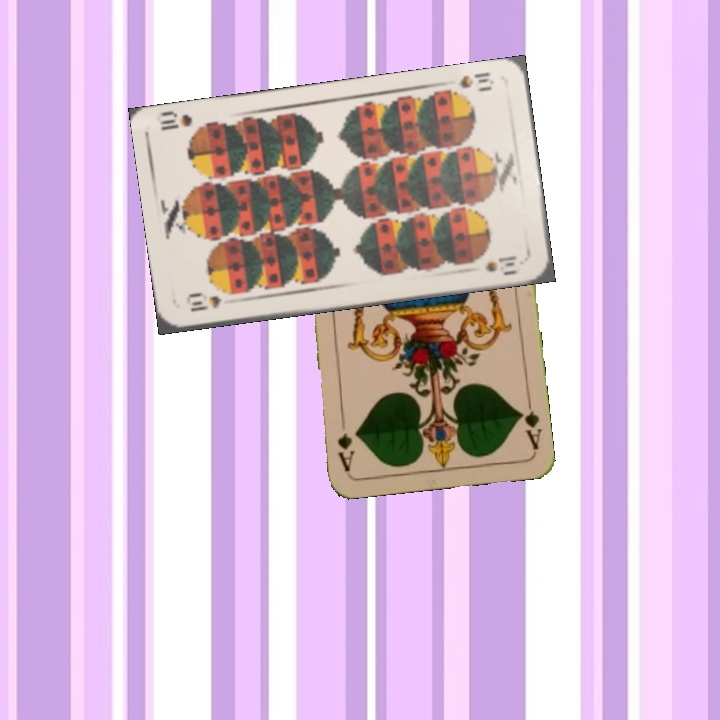GA: (514, 393, 544, 452)
S10: (455, 68, 497, 94), (186, 291, 224, 315)
